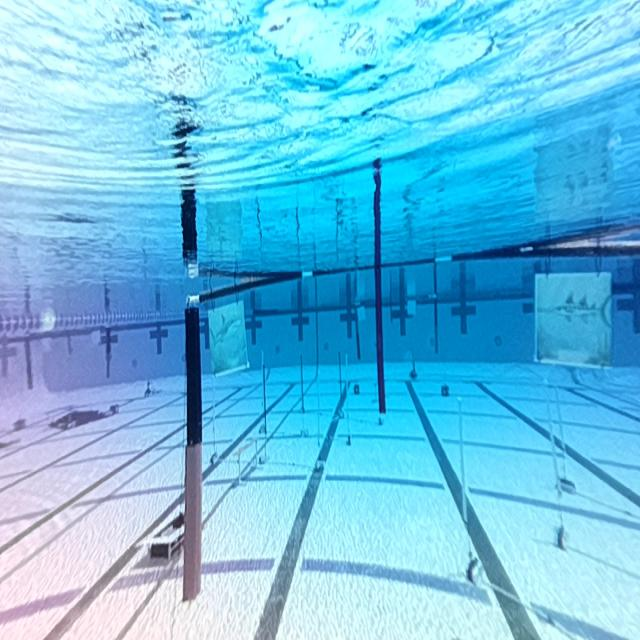pointed_nose: (534, 281, 612, 364)
round_nose: (206, 306, 247, 364)
